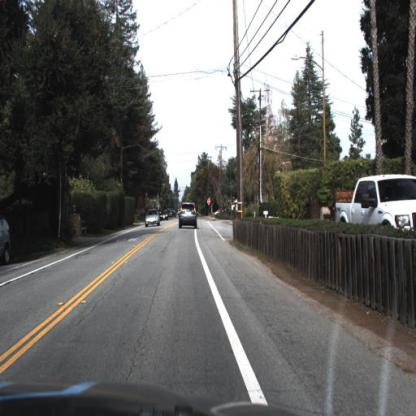car: (335, 171, 416, 260), (177, 201, 199, 232), (145, 207, 163, 230), (144, 205, 159, 229), (161, 209, 171, 224)
